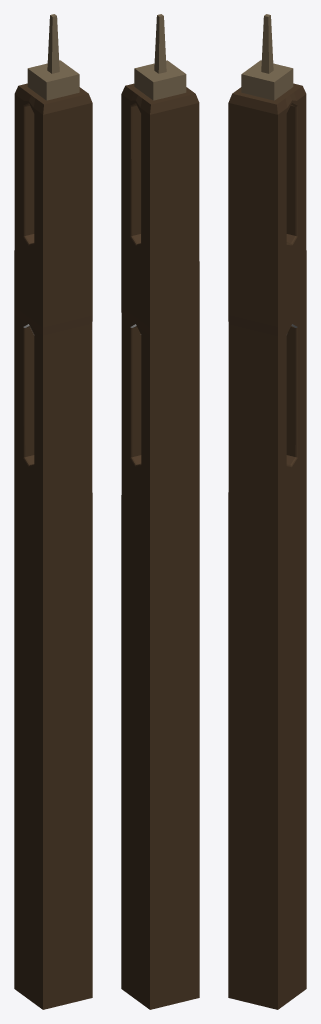
The model's file is BGBuilding1.fbx.
3 renders of one model, left to right at view 1: azimuth 30°, elevation 25°; view 2: azimuth 210°, elevation 25°; view 3: azimuth 330°, elevation 25°, orthographic.
Visible parts, largest first — view 1: BG4; view 2: BG4; view 3: BG4.
Part boxes in pixels (x1,y1,x2,y2): BG4: [14, 14, 92, 1009]; BG4: [121, 14, 199, 1009]; BG4: [228, 14, 306, 1009].
Bounding box in the file's own units: 14.91 × 281 × 14.92.
